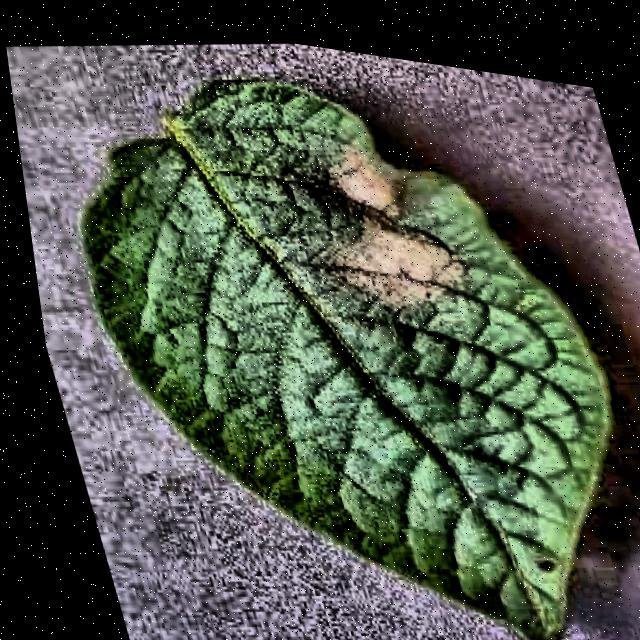Potato_leaf_late_blight: (66, 80, 609, 640)
